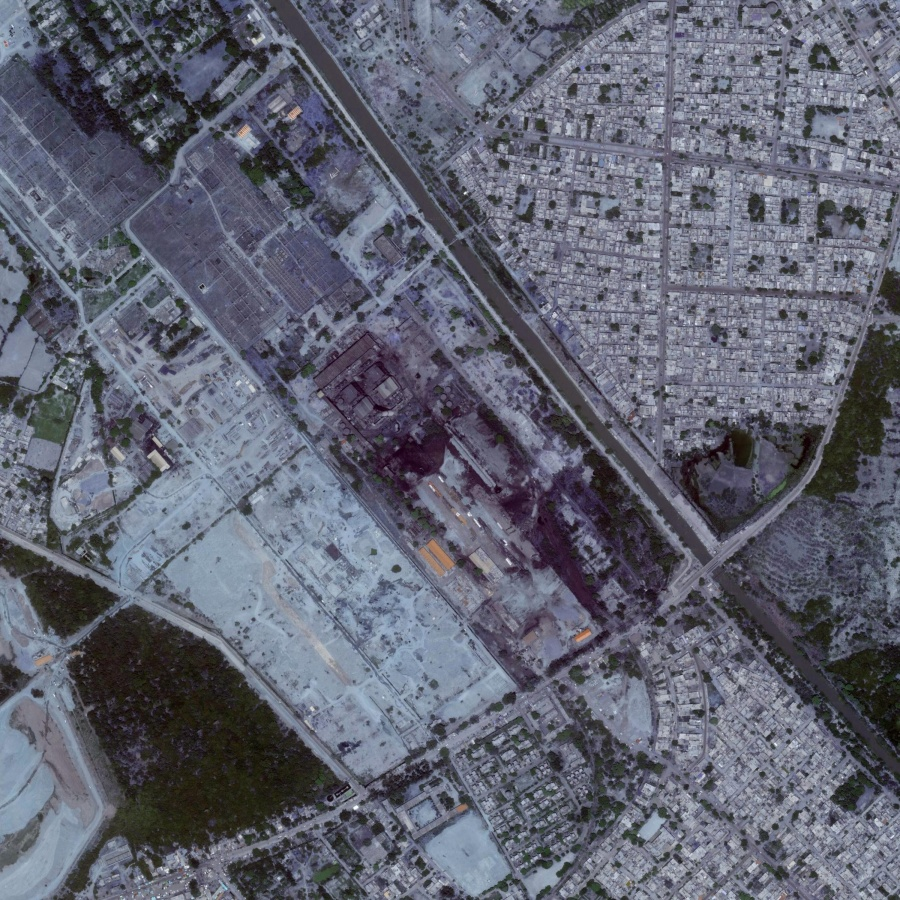PowerPlant: (314, 326, 613, 649)
